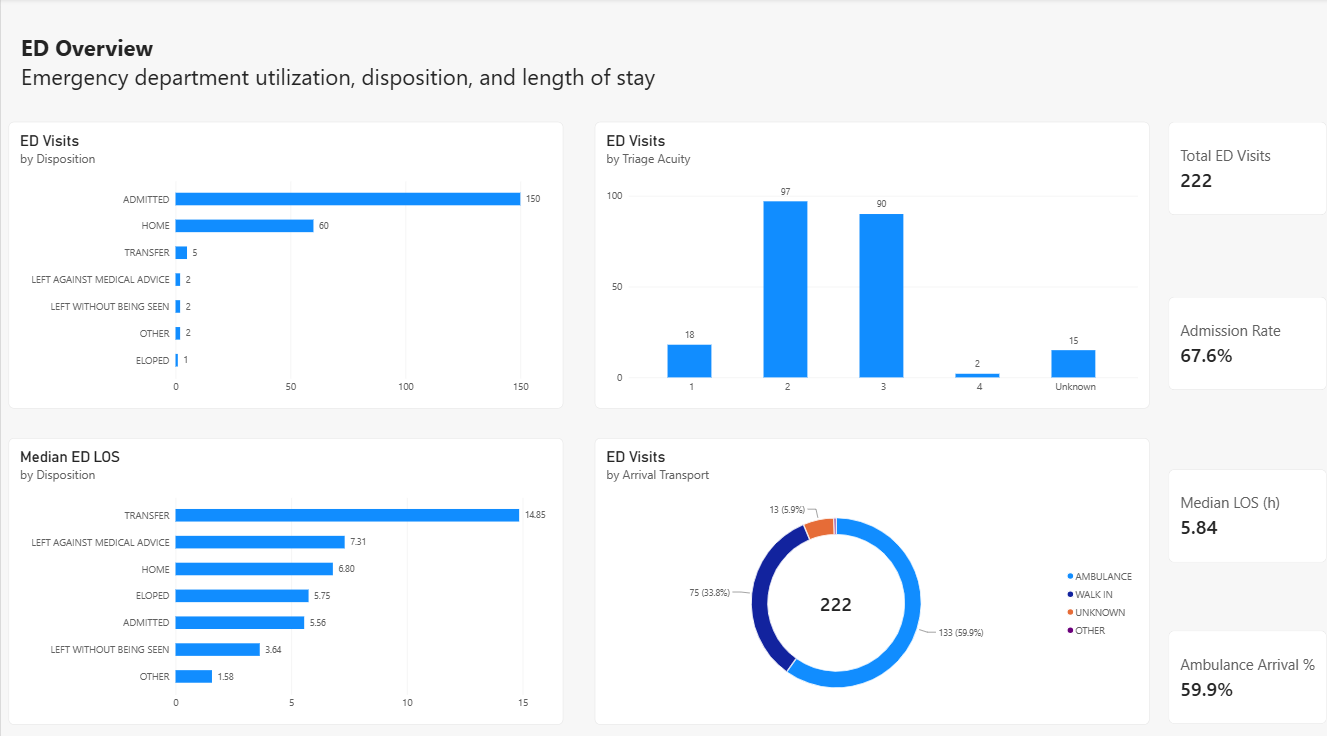

The dashboard page shown, as its layout file describes it:
{"tool":"powerbi","page":{"name":"ED Overview","canvas":[1920,1080],"ordinal":0},"visuals":[{"type":"cardVisual","fields":{"Data":["public final_ed_analysis.Total ED Visits"]},"box":[1690.4,179.5,229.6,135.7],"z":0},{"type":"cardVisual","fields":{"Data":["public final_ed_analysis.Admission Rate"]},"box":[1690.4,432,229.6,135.7],"z":1000},{"type":"cardVisual","fields":{"Data":["public final_ed_analysis.Median ED LOS"]},"box":[1690.4,682.4,229.6,135.7],"z":2000},{"type":"cardVisual","fields":{"Data":["public final_ed_analysis.Ambulance Arrival %"]},"box":[1690.4,916.2,229.6,135.7],"z":3000},{"type":"clusteredBarChart","title":"ED Visits","fields":{"Category":["public final_ed_analysis.disposition"],"Y":["public final_ed_analysis.Total ED Visits"]},"box":[10.4,179.5,803.5,415.3],"z":4000},{"type":"clusteredColumnChart","title":"ED Visits","fields":{"Category":["public final_ed_analysis.Acuity Label"],"Y":["public final_ed_analysis.Total ED Visits"]},"box":[859.8,179.5,803.5,415.3],"z":5000},{"type":"clusteredBarChart","title":"Median ED LOS","fields":{"Category":["public final_ed_analysis.disposition"],"Y":["public final_ed_analysis.Median ED LOS (Hours)"]},"box":[10.4,636.5,803.5,415.3],"z":6000},{"type":"donutChart","title":"ED Visits","fields":{"Category":["public final_ed_analysis.arrival_transport"],"Y":["public final_ed_analysis.Total ED Visits"]},"box":[859.8,636.5,803.5,415.3],"z":7000},{"type":"textbox","box":[29.2,48,1145.7,119],"z":8000}]}

Visuals, with their boxes in screenshot pixels (x1, y1, x2, y2), scaled from the page's 1920x1080 canvas onto the 1327x736 screenshot:
cardVisual - public final_ed_analysis.Total ED Visits: left=1168, top=122, right=1326, bottom=215
cardVisual - public final_ed_analysis.Admission Rate: left=1168, top=294, right=1326, bottom=387
cardVisual - public final_ed_analysis.Median ED LOS: left=1168, top=465, right=1326, bottom=558
cardVisual - public final_ed_analysis.Ambulance Arrival %: left=1168, top=624, right=1326, bottom=717
"ED Visits" clusteredBarChart: left=7, top=122, right=563, bottom=405
"ED Visits" clusteredColumnChart: left=594, top=122, right=1150, bottom=405
"Median ED LOS" clusteredBarChart: left=7, top=434, right=563, bottom=717
"ED Visits" donutChart: left=594, top=434, right=1150, bottom=717
textbox: left=20, top=33, right=812, bottom=114
